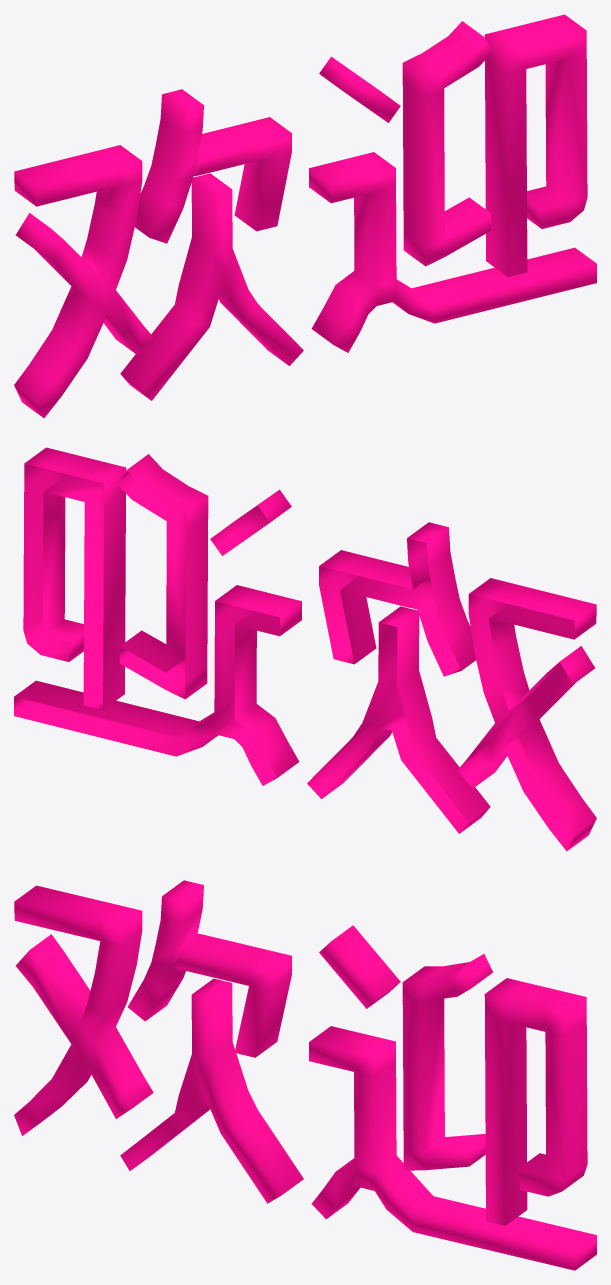
File: Welcome.glb
3 renders of one model, top to bottom at view 1: azimuth 30°, elevation 25°; view 2: azimuth 150°, elevation 25°; view 3: azimuth 330°, elevation 25°, orthographic.
Visible parts, largest first — view 1: Welcome; view 2: Welcome; view 3: Welcome.
Boxes of the visible parts, x1=… form: Welcome: x1=14, y1=14, x2=596, y2=418; Welcome: x1=14, y1=447, x2=596, y2=851; Welcome: x1=14, y1=880, x2=596, y2=1270.
Size of the model in its own units: 0.9792 by 0.4722 by 0.0664.
Materials: 1 (1 with a texture image).
